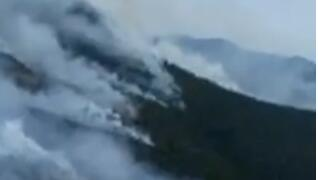smoke: (0, 0, 186, 179), (177, 1, 314, 100)
